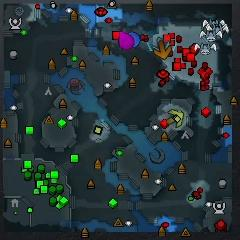p1: (127, 32, 141, 49)
p3: (118, 31, 134, 50)
x2: (167, 109, 184, 127)
x3: (152, 37, 170, 51)
x5: (154, 41, 171, 59)
